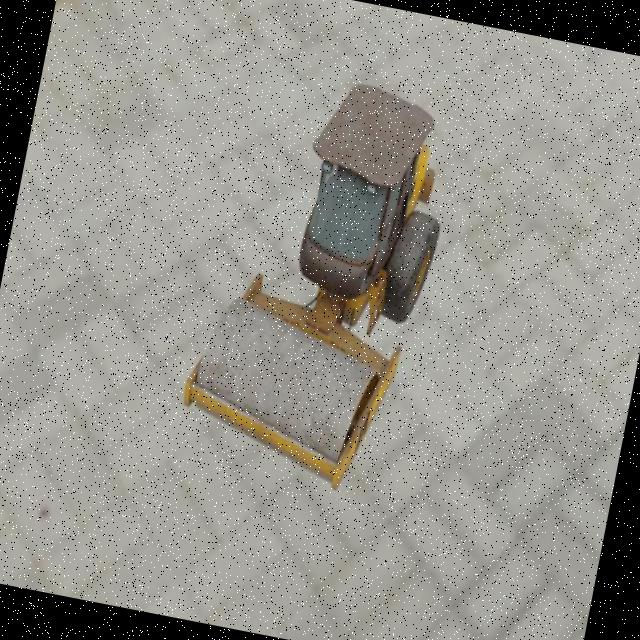Roller: (170, 60, 464, 500)
